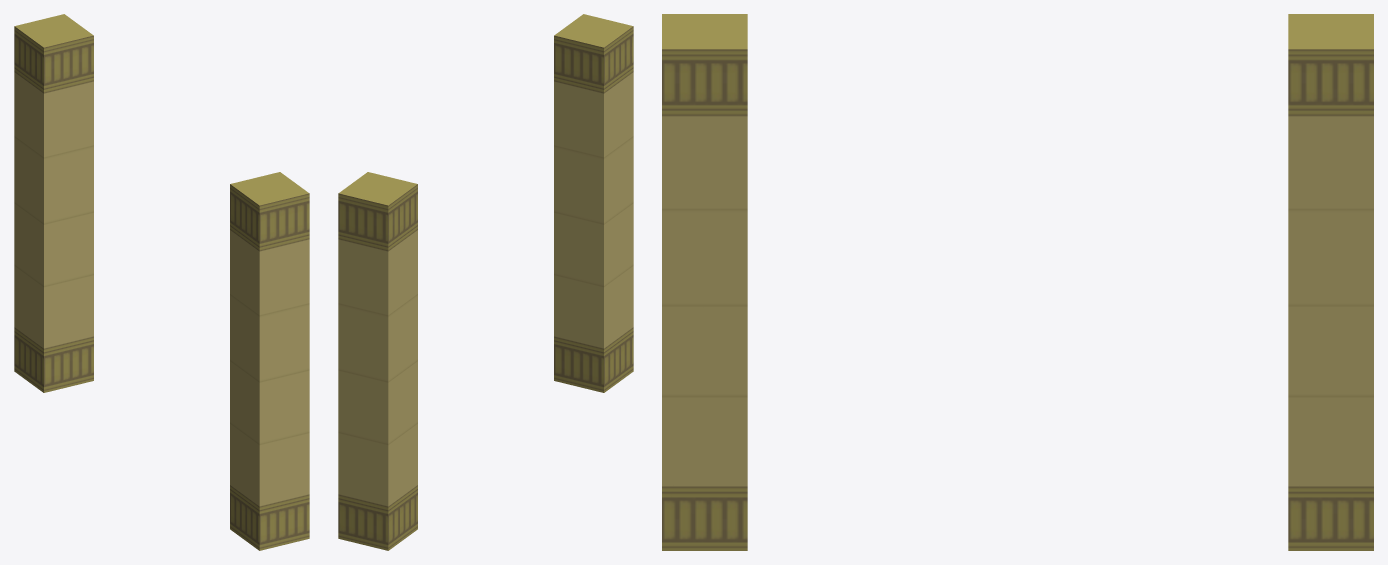
Rendered from Farbbarrierensaeule.fbx.
3 views of the same model, side by side, from view 1: azimuth 30°, elevation 25°; view 2: azimuth 150°, elevation 25°; view 3: azimuth 270°, elevation 25° (orthographic). The views are drawn at different scales.
Visible parts, largest first — view 1: Cube_001; view 2: Cube_001; view 3: Cube_001.
Boxes of the visible parts, left/top/right/bottom form: Cube_001: left=14, top=14, right=309, bottom=550; Cube_001: left=338, top=14, right=633, bottom=550; Cube_001: left=662, top=14, right=1373, bottom=550.
Size of the model in its own units: 0.2993 by 1.98 by 2.54.
Materials: 1 (1 with a texture image).
